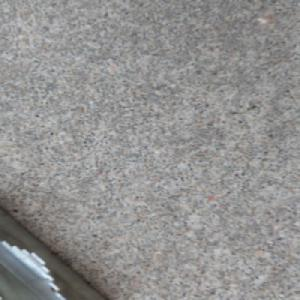ClampPart: (0, 200, 113, 300)
